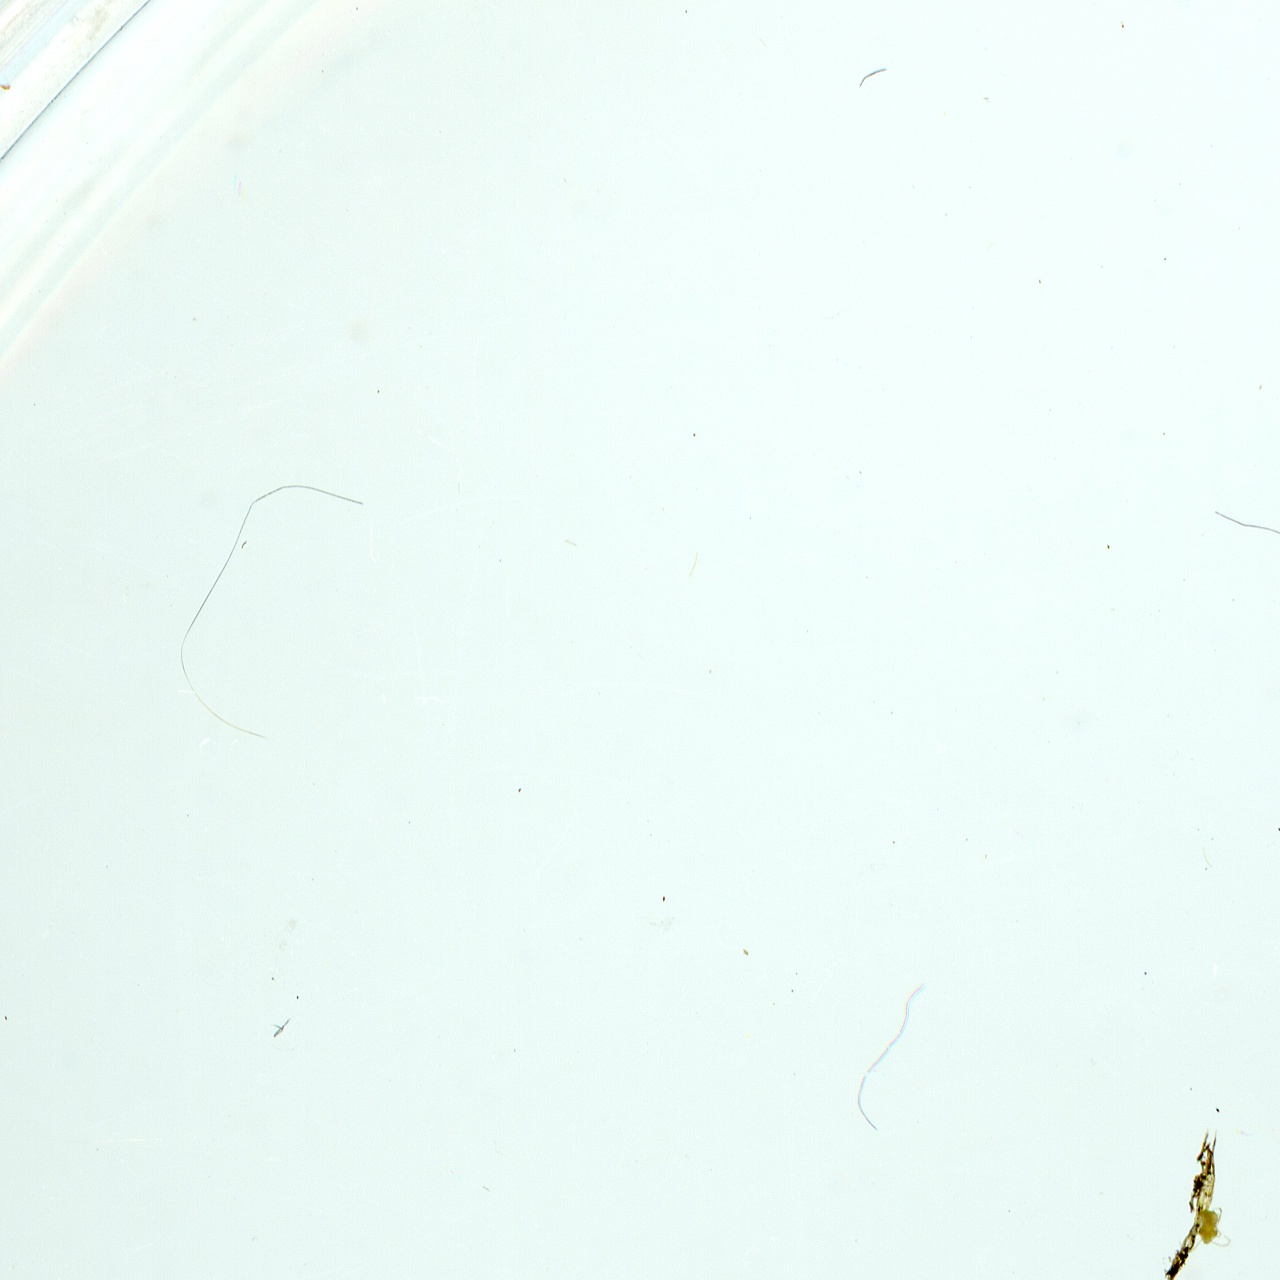arthropod: (1185, 1201, 1234, 1259)
